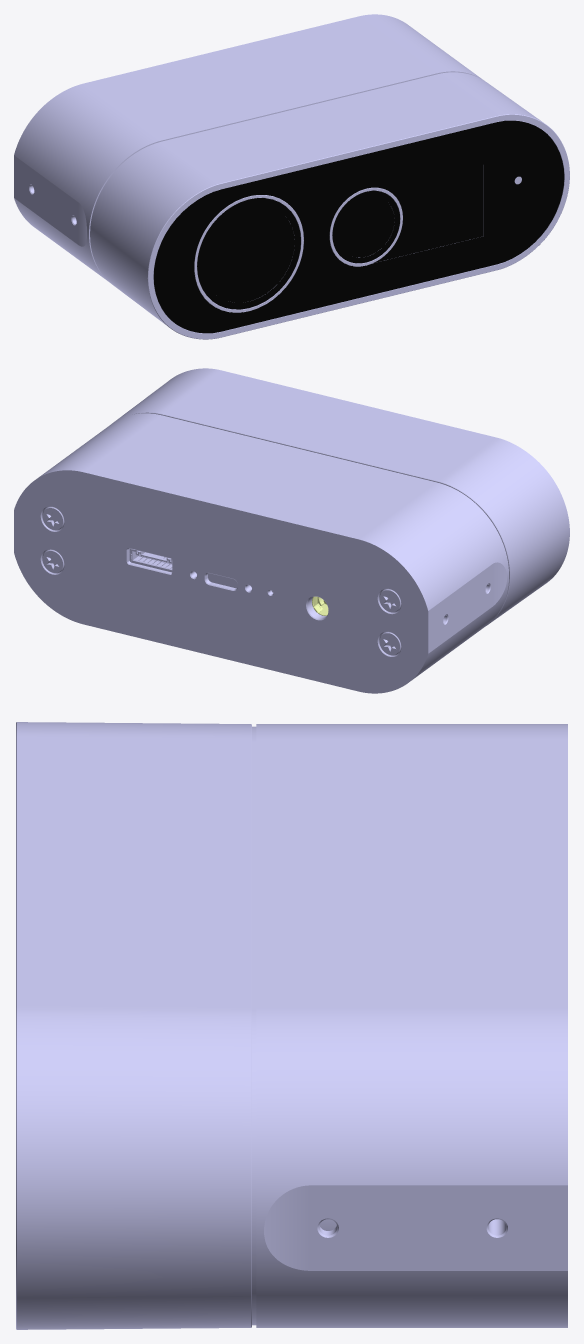
The model's file is femto_bolt.dae.
3 renders of one model, top to bottom at view 1: azimuth 30°, elevation 25°; view 2: azimuth 150°, elevation 25°; view 3: azimuth 270°, elevation 25°, orthographic. The views are drawn at different scales.
Visible parts, largest first — view 1: Femto bolt_AllCATPart (×6); view 2: Femto bolt_AllCATPart (×7); view 3: Femto bolt_AllCATPart (×2).
Boxes of the visible parts, x1,y1,x2,y2 form: Femto bolt_AllCATPart (×6): (14,14,569,339); Femto bolt_AllCATPart (×7): (14,368,569,693); Femto bolt_AllCATPart (×2): (16,722,567,1329).
Size of the model in its own units: 0.1153 by 0.0653 by 0.0403.
